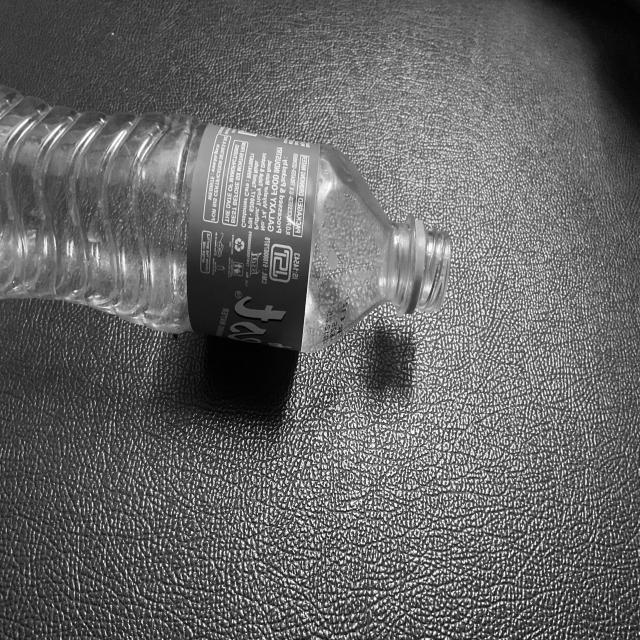open-cap: (406, 216, 455, 319)
